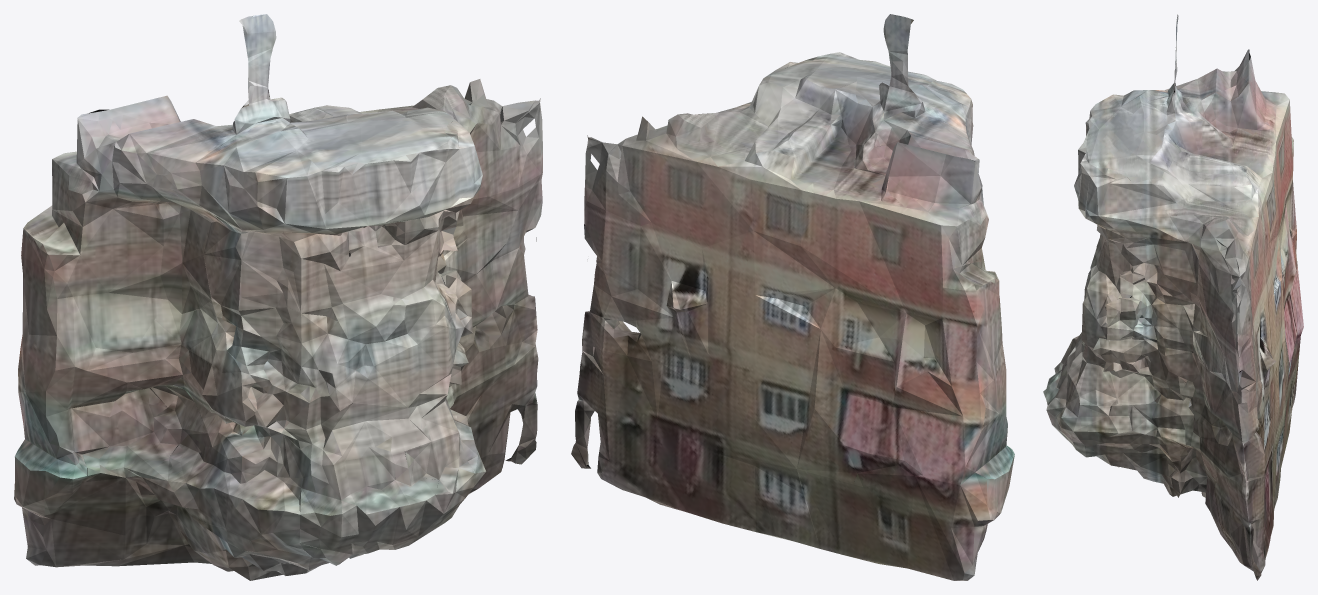
File: ubm1.glb
The picture shows the model from 3 angles, left to right: view 1: azimuth 30°, elevation 25°; view 2: azimuth 150°, elevation 25°; view 3: azimuth 270°, elevation 25°; orthographic projection. The views are drawn at different scales.
Parts seen in each view (by area): view 1: world; view 2: world; view 3: world.
Boxes of the visible parts, bbox=[...] form: world: bbox=[14, 14, 542, 580]; world: bbox=[571, 14, 1014, 580]; world: bbox=[1043, 14, 1303, 580].
Size of the model in its own units: 0.8227 by 0.8988 by 0.4693.
Materials: 1 (1 with a texture image).
